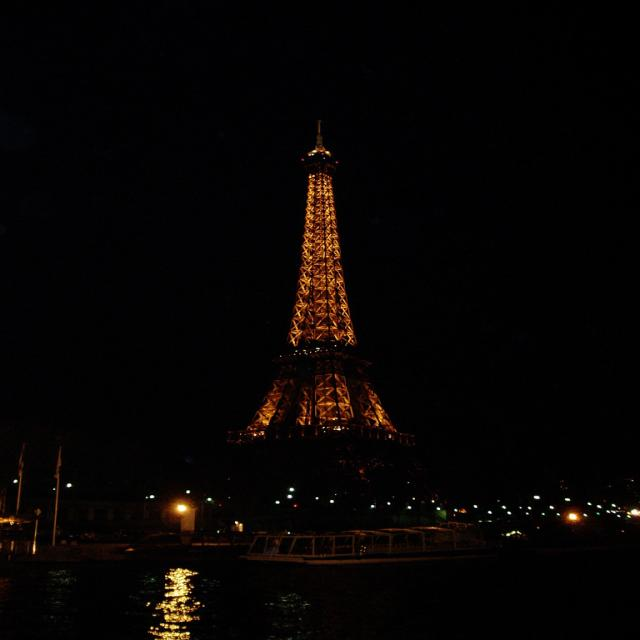Boat: (162, 509, 573, 593)
